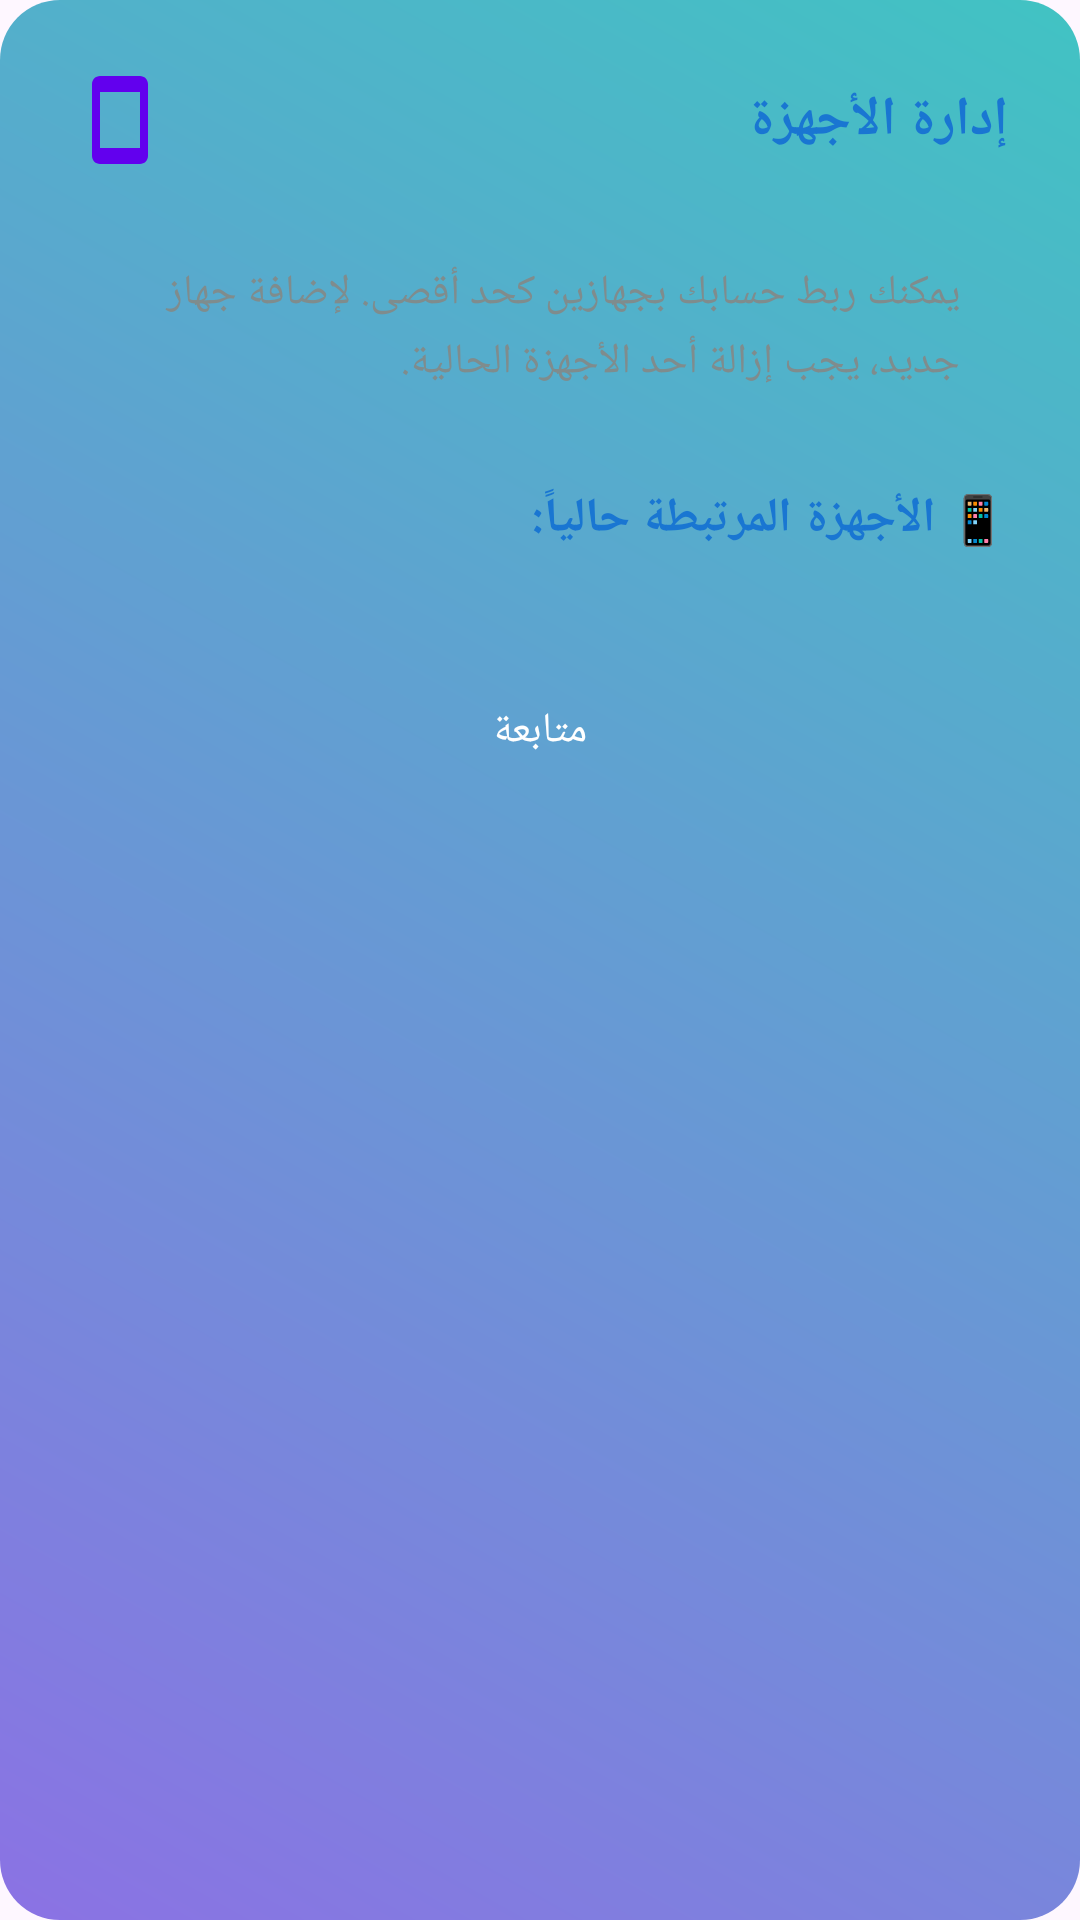

Icons on this 1080*1920 Android screen, each with the point to tap as [x,y]:
smartphone: [120,120]
